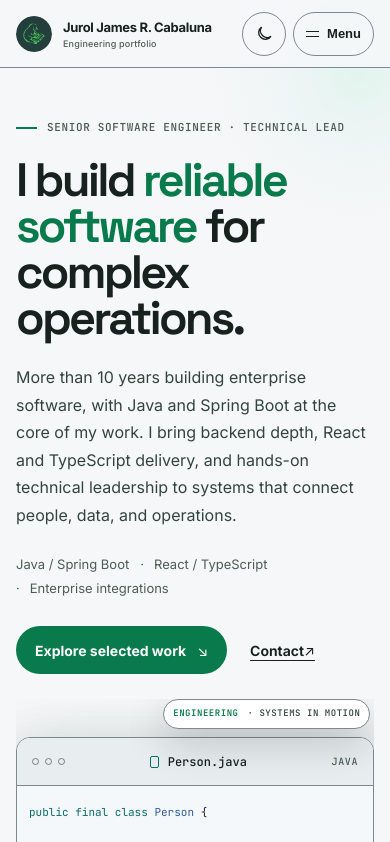
Test: portfolio › opens mobile navigation and closes it after choosing a section
Click the button "Menu". click: (334, 34)
box: x1=293 y1=12 x2=374 y2=56
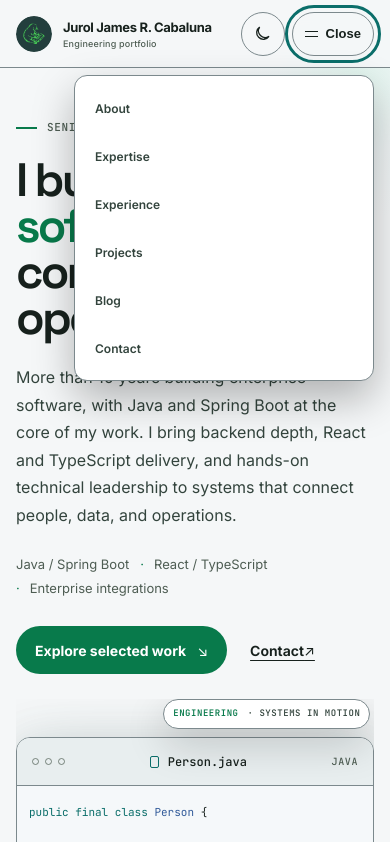
Now the button "Close" is expanded, box x1=292 y1=12 x2=374 y2=56
Click the link "Experience". click: (128, 204)
box: x1=95 y1=196 x2=160 y2=212
(page scrolled)
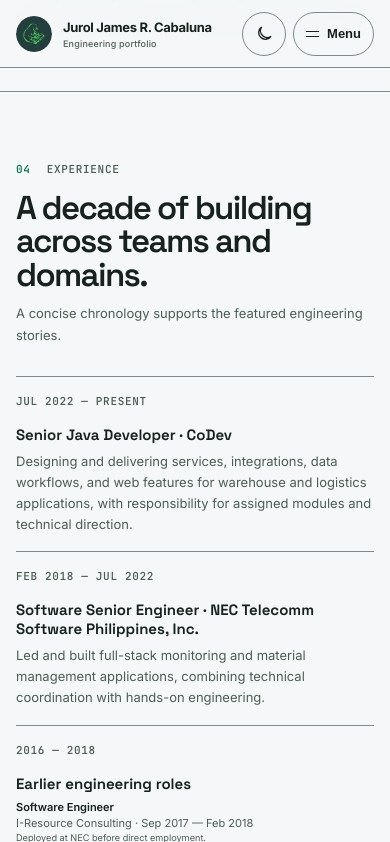
Now the button "Menu" is collapsed, box x1=293 y1=12 x2=374 y2=56
